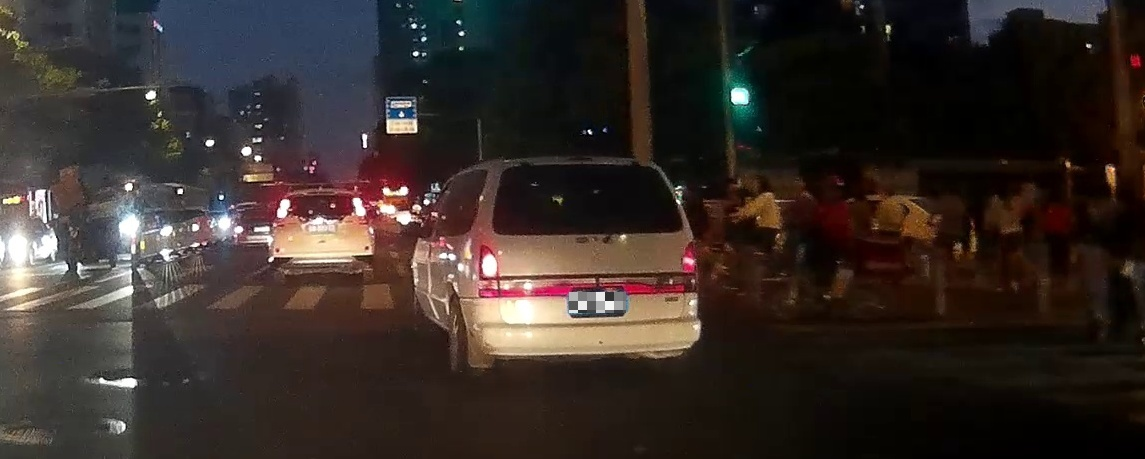L_light: (476, 244, 500, 299), (273, 198, 293, 224)
R_light: (680, 240, 699, 289), (350, 197, 367, 217)
T_light: (565, 156, 595, 163), (313, 191, 328, 194)
night-left: (475, 156, 700, 370)
night-no: (269, 188, 375, 280)
plate_1: (569, 292, 626, 313)
